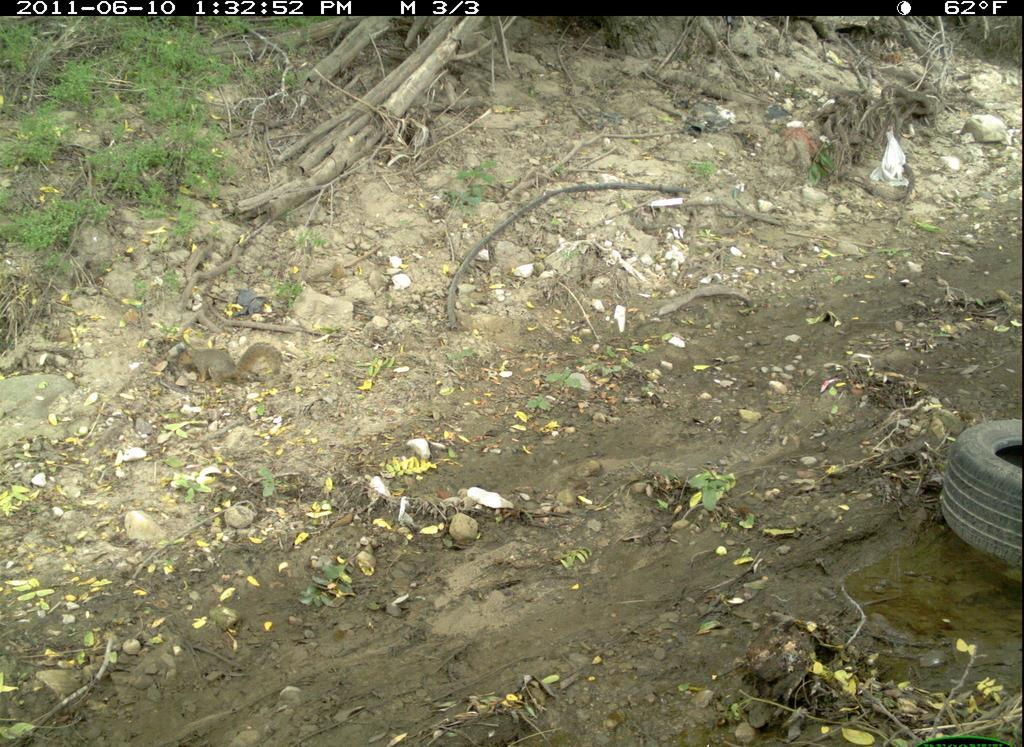squirrel: (166, 338, 286, 395)
